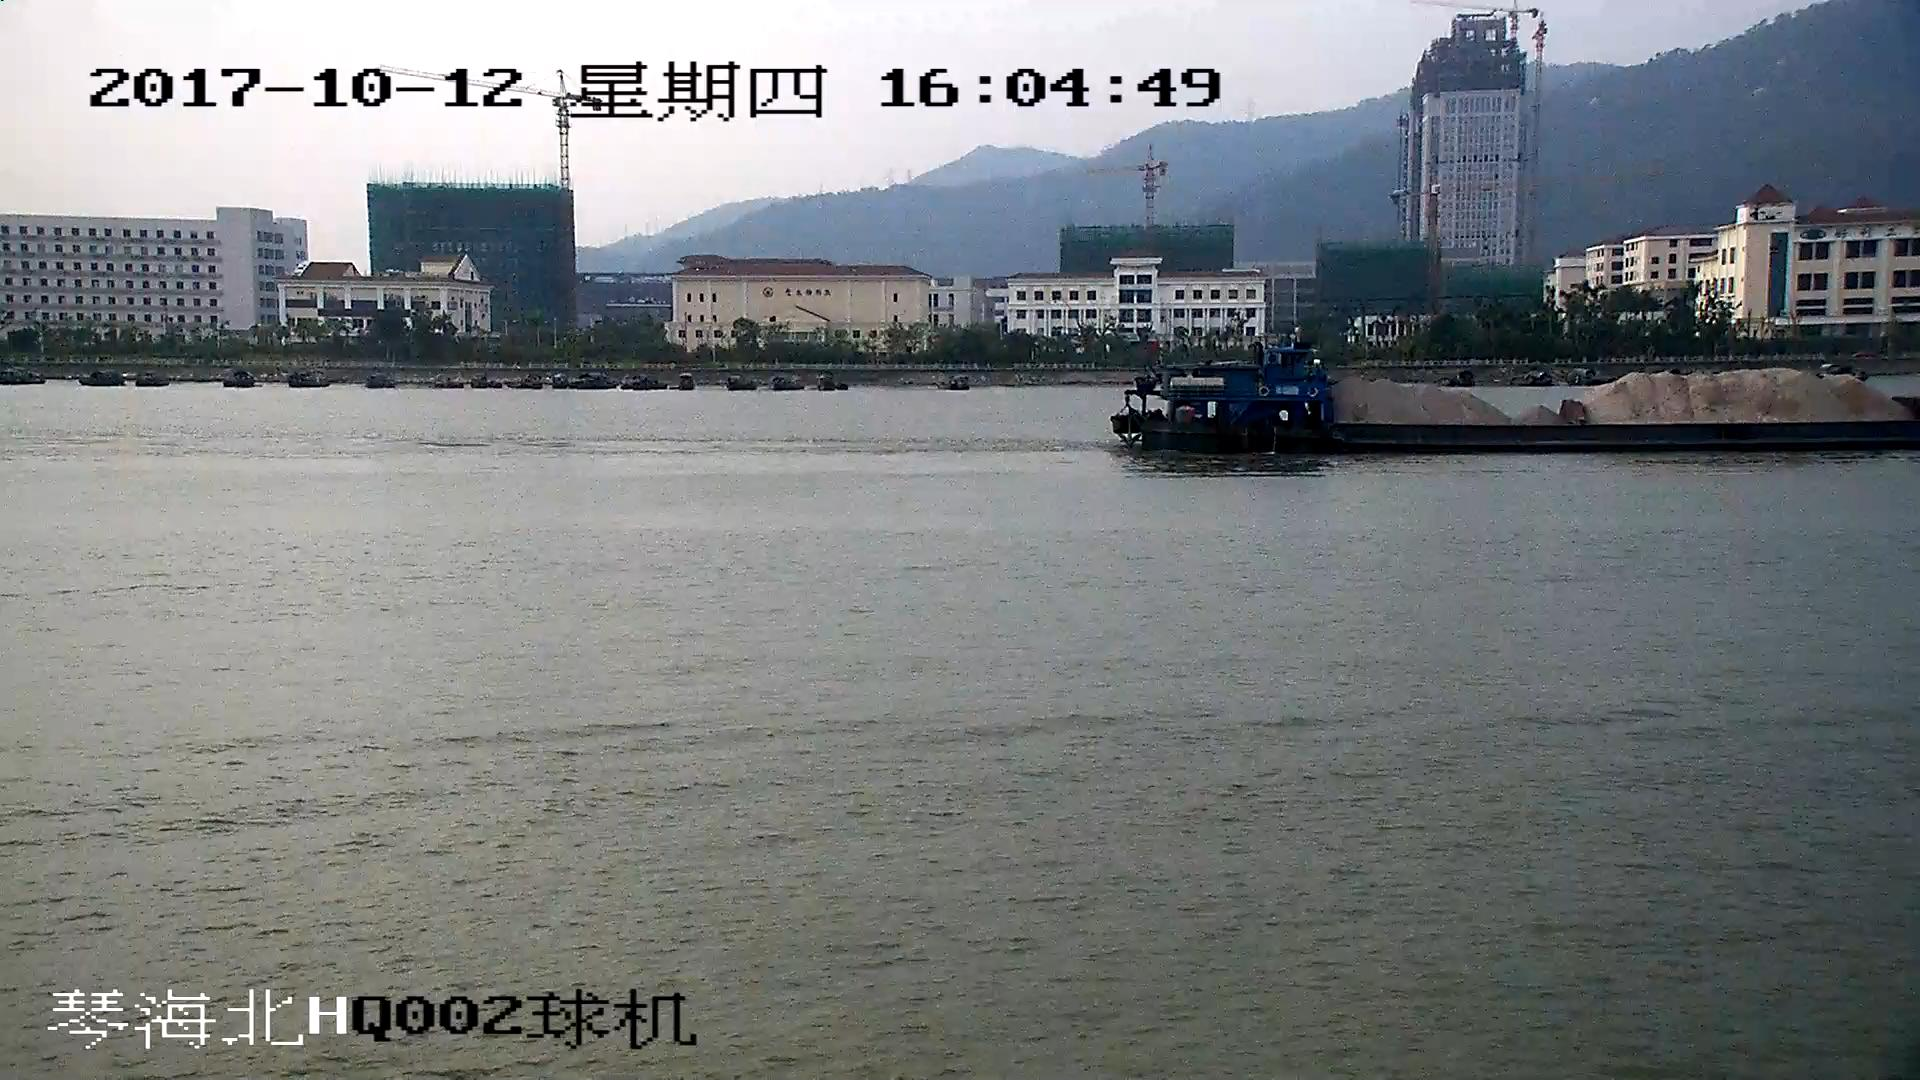ore carrier: (1110, 338, 1920, 457)
